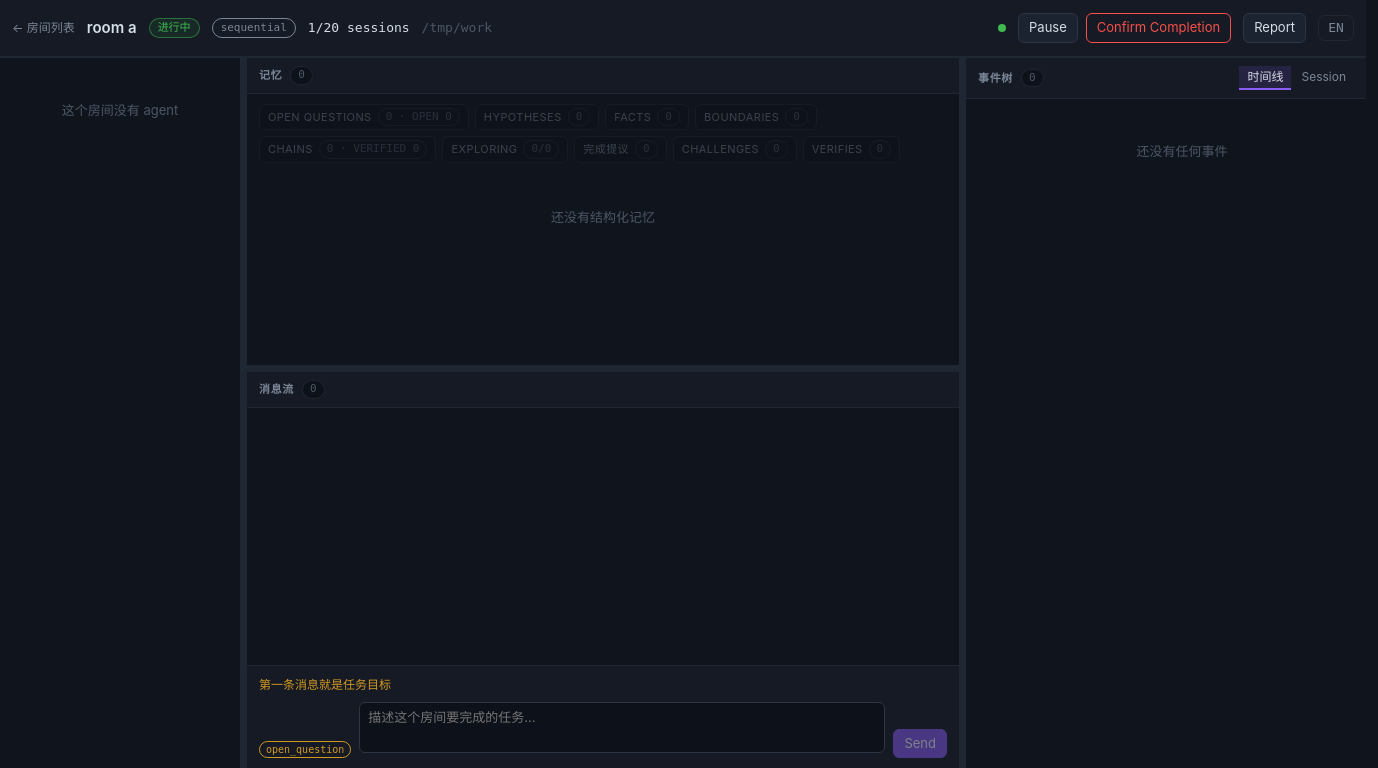
Test: RoomDashboardPage › switches the UI to English without losing the composer draft or server error text
Expected: the heading "room a" is shown, [87,17,137,39]
Type "draft text" into the text box named "content" at (622, 727), box [359,702,886,752]
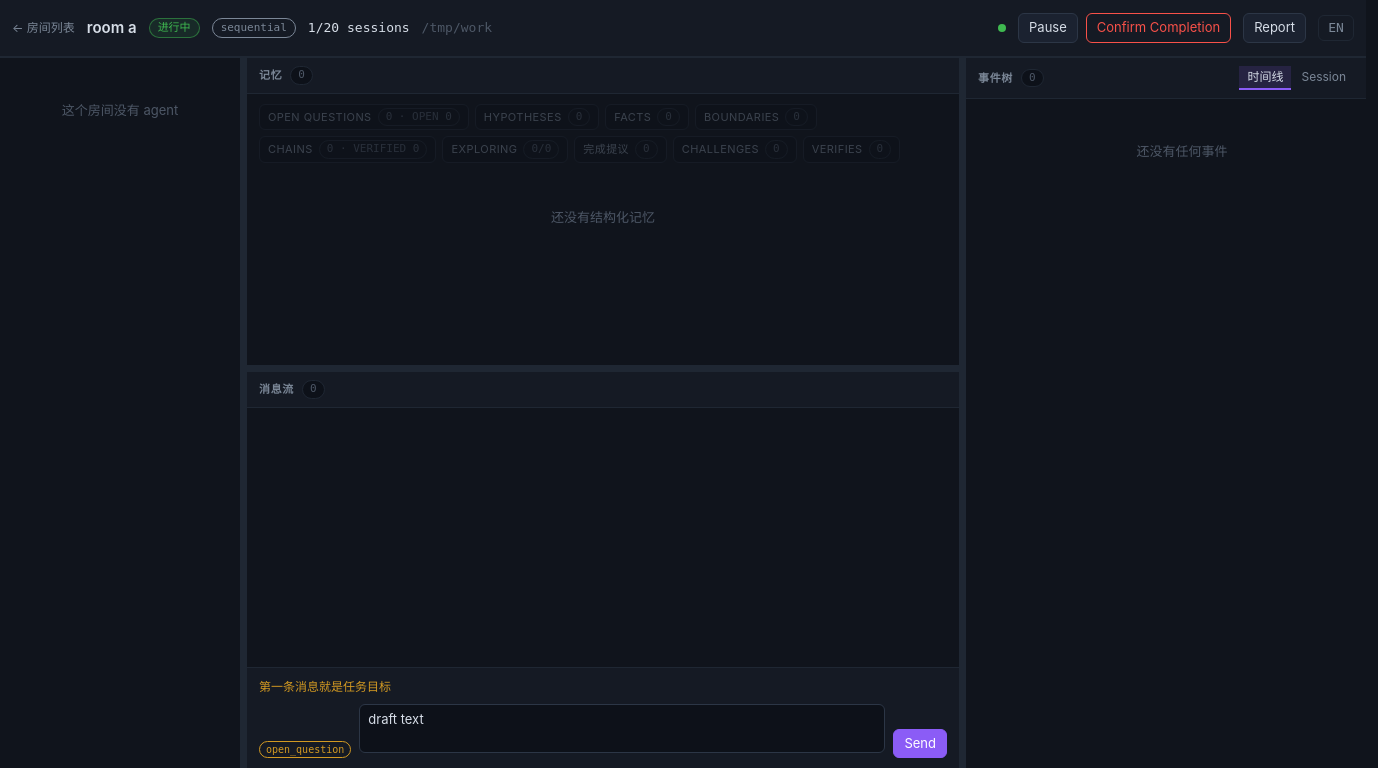
Click the button "Send" at (920, 743), box [893,728,947,758]
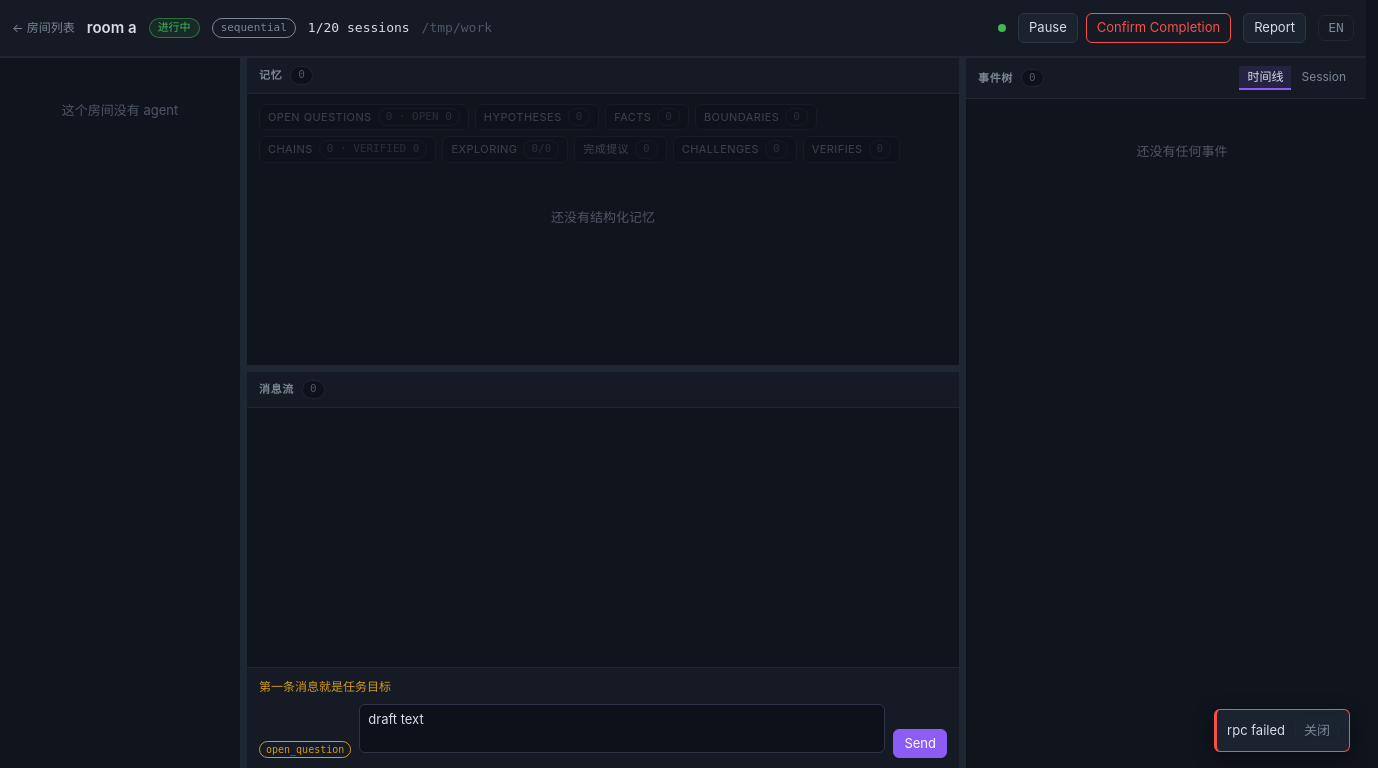
Expected: the text "rpc failed" is shown, [1227,720,1285,740]
Click the button with aria-label "切换到英文" at (1336, 28), box [1318,15,1354,41]
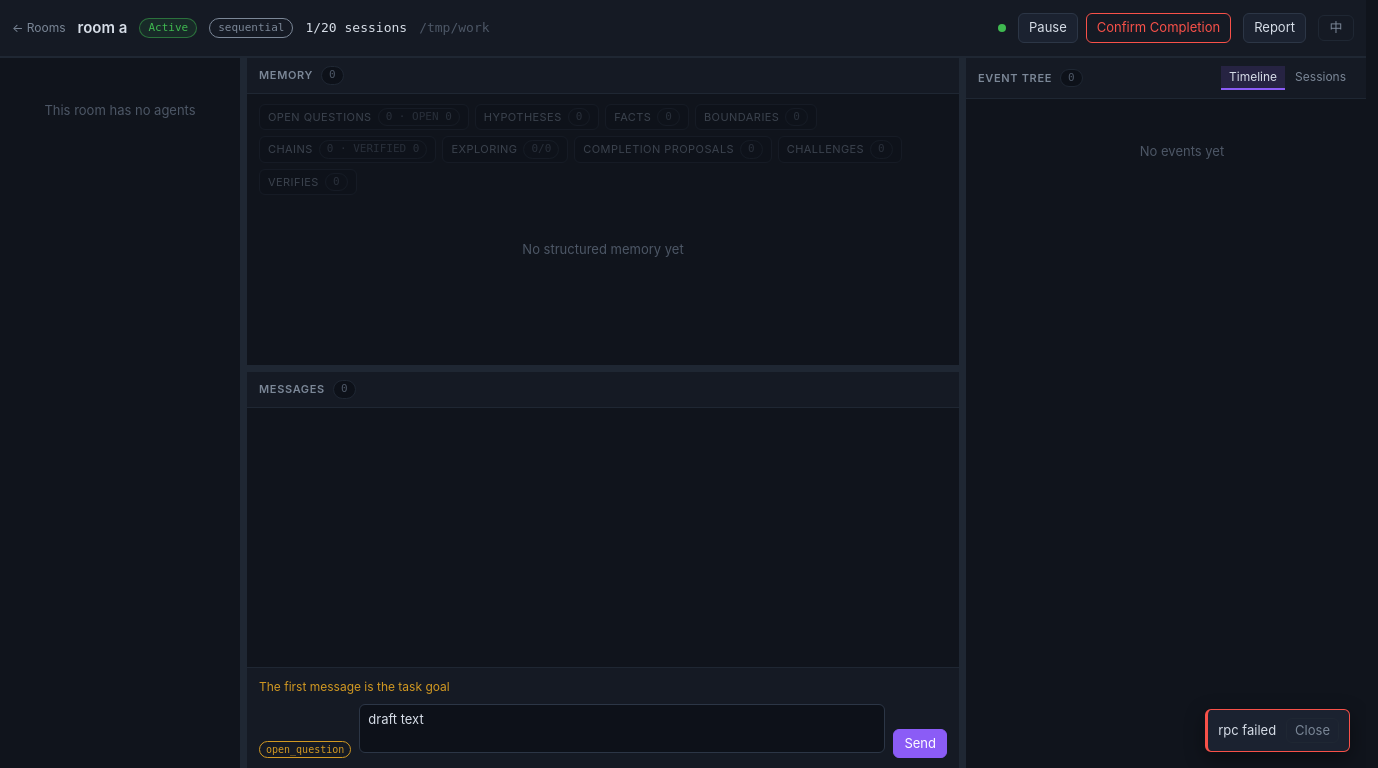
Expected: the text "rpc failed" is shown, [1218,720,1276,740]
Expected: the heading "Messages" is shown, [259,381,325,398]
Expected: the heading "Event Tree" is shown, [978,70,1052,86]
